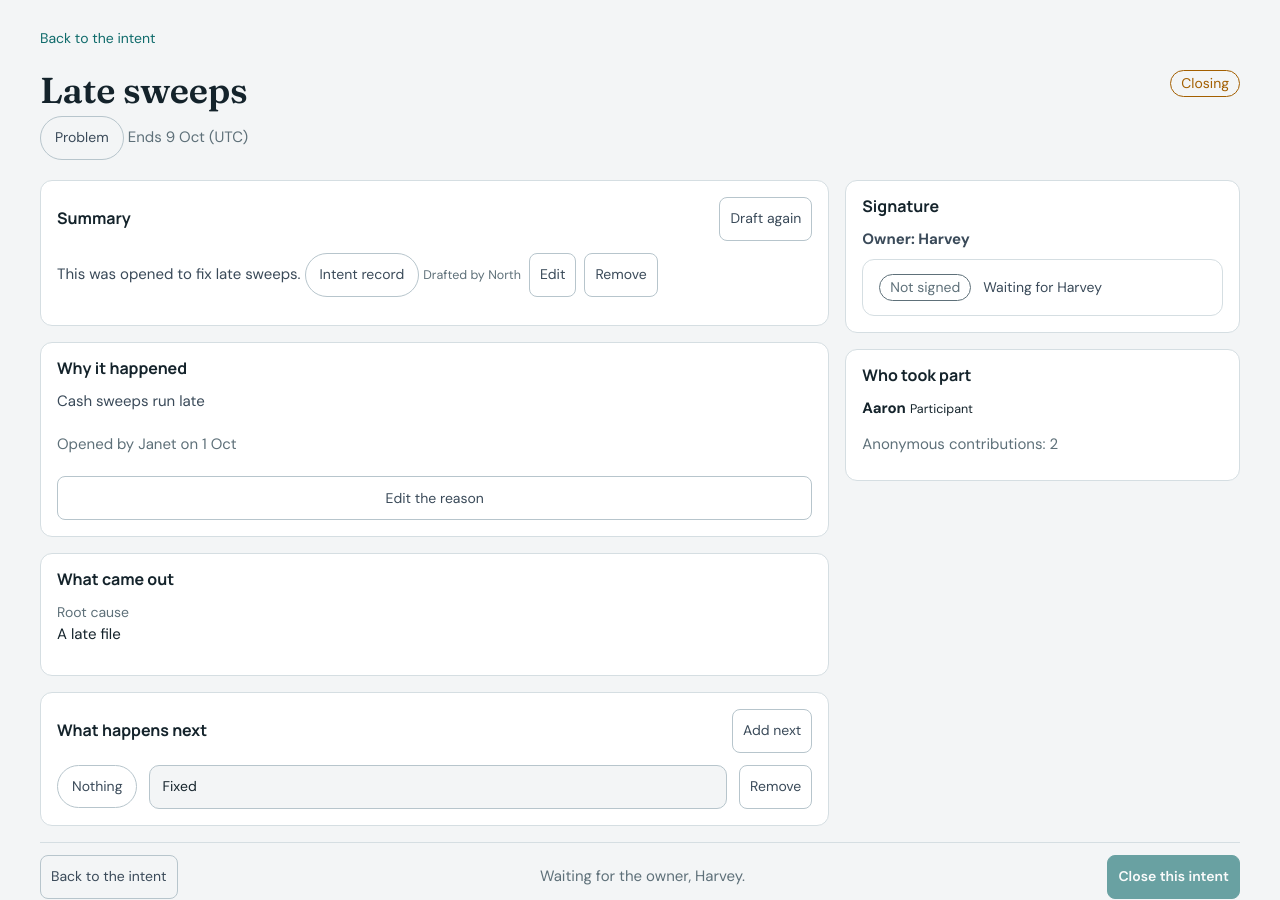
Test case: Closure screen › shows the draft with a source chip, the people with a count only, and the signature waiting
The image size is (1280, 900).
Expected: the text "This was opened to fix late sweeps." is shown, [57,264,301,284]
What coordinates should you click on to do the following:
click the button "Intent record"
I would click on:
 (362, 275)
Its box is [305,253,419,296].
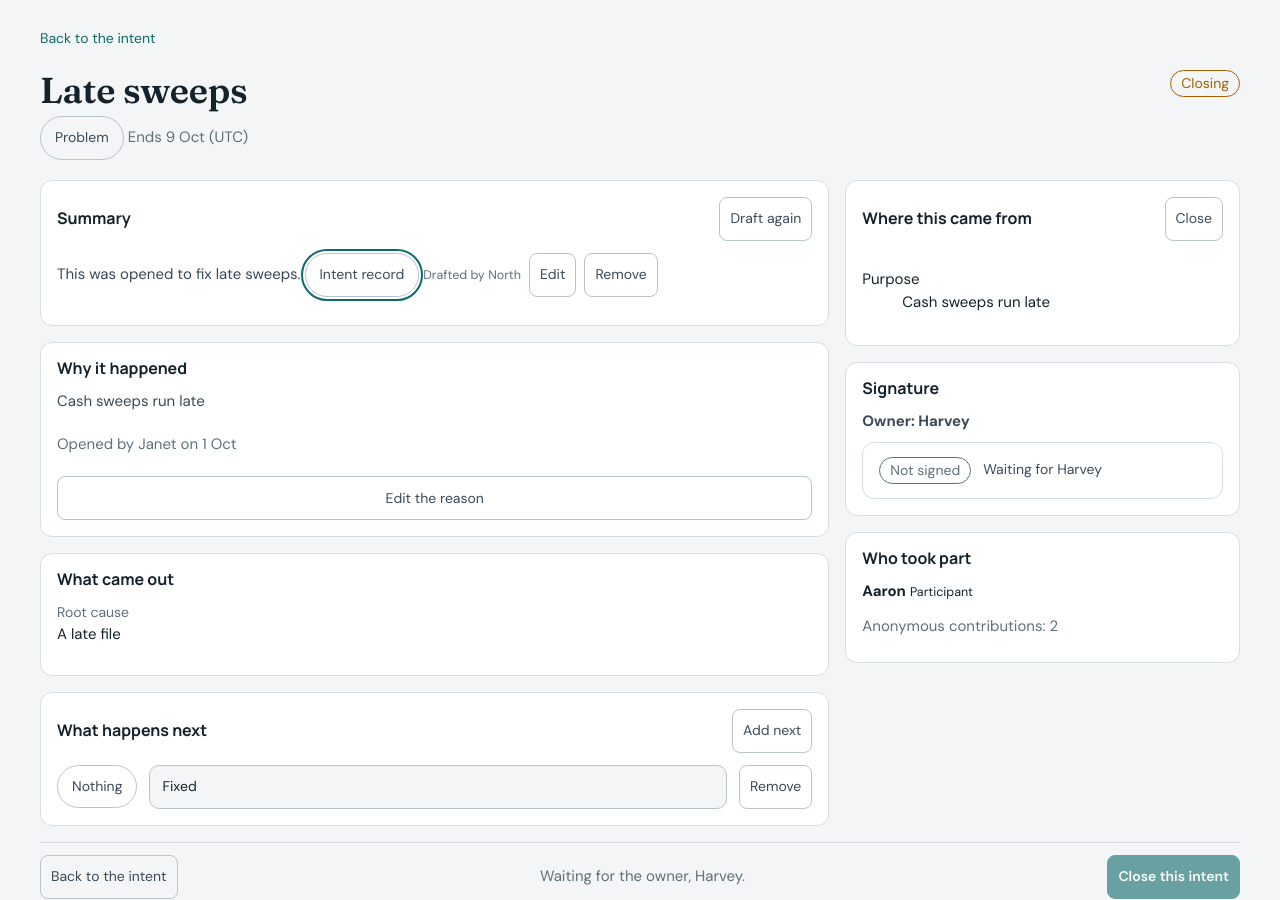
Expected: the text "Participant" is shown, [910,584,973,600]
Expected: the heading "Where this came from" is shown, [862,209,1032,228]
